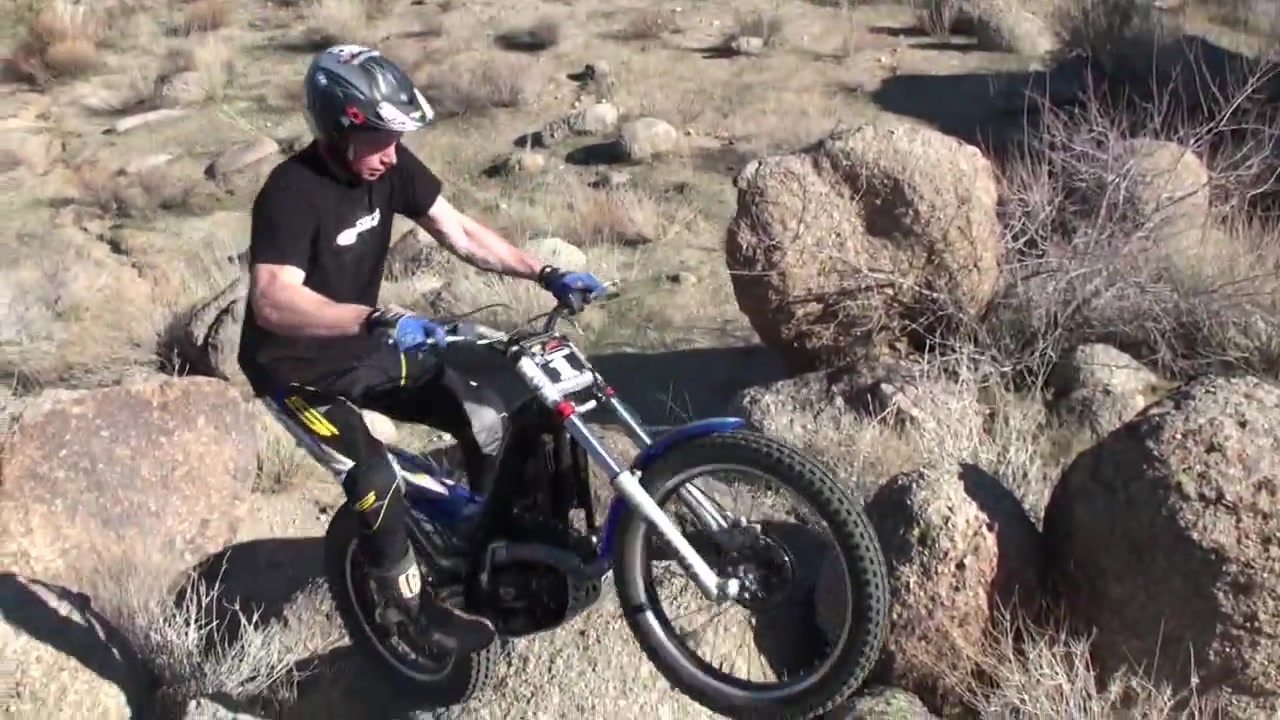motorbike: (317, 280, 896, 720)
